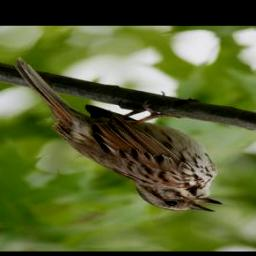Sparrow: (14, 57, 227, 215)
